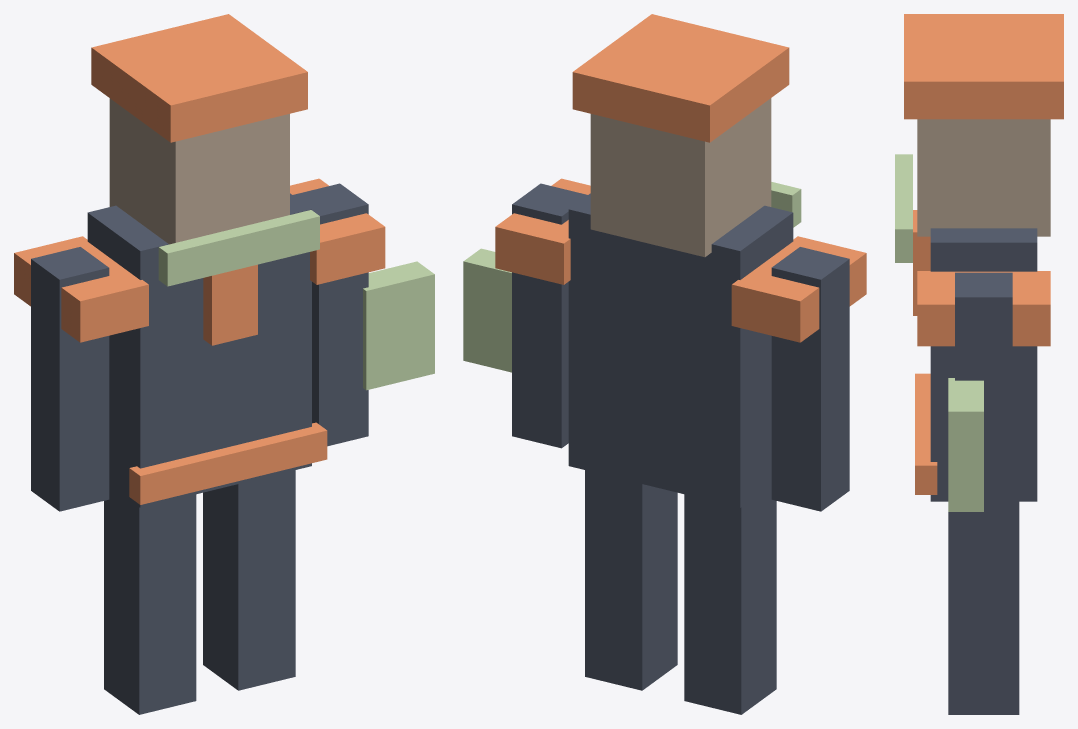
File: 17_maelis_wayfare_cartographer_from_shuttle.glb
3 views of the same model, side by side, from view 1: azimuth 30°, elevation 25°; view 2: azimuth 150°, elevation 25°; view 3: azimuth 270°, elevation 25° (orthographic).
Parts seen in each view (by area): view 1: Maelis Wayfare, Cartographer from Shuttle; view 2: Maelis Wayfare, Cartographer from Shuttle; view 3: Maelis Wayfare, Cartographer from Shuttle.
Boxes of the visible parts, box(x1,y1,x2,y2) form: Maelis Wayfare, Cartographer from Shuttle: box(14, 14, 434, 714); Maelis Wayfare, Cartographer from Shuttle: box(463, 14, 866, 714); Maelis Wayfare, Cartographer from Shuttle: box(895, 14, 1063, 714).
Size of the model in its own units: 0.9029 by 1.45 by 0.3519.
